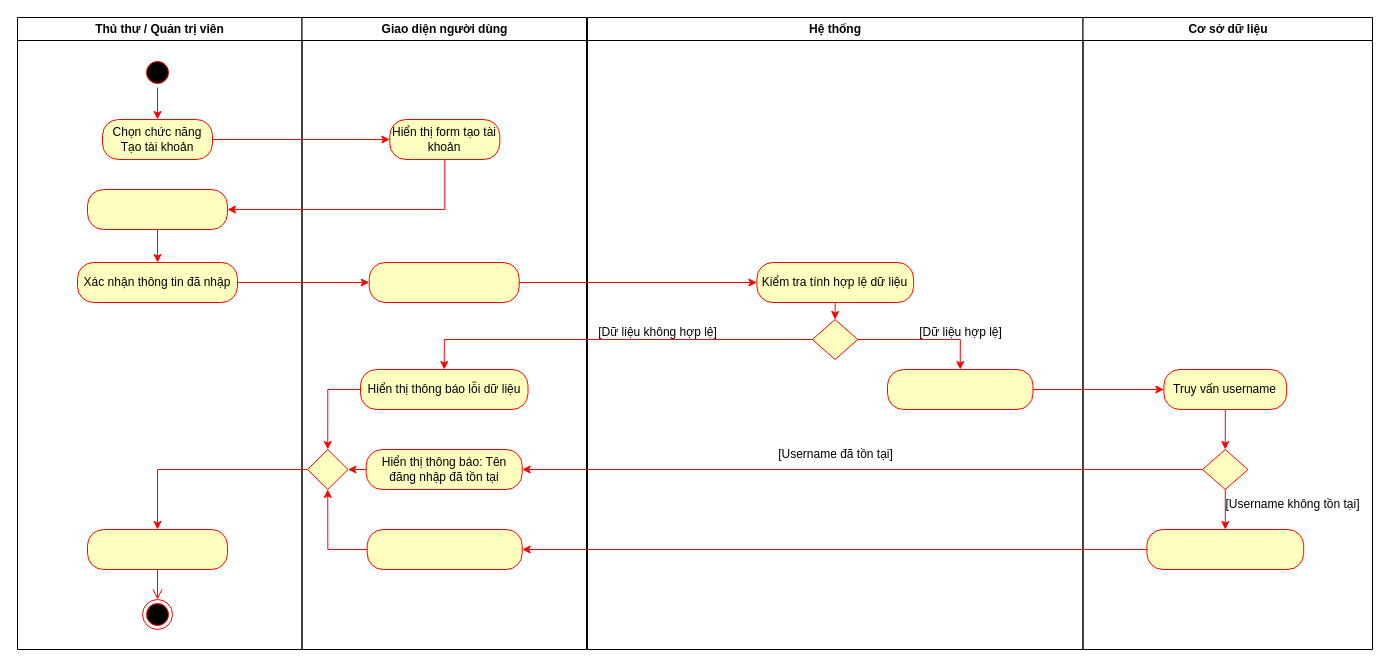
Some shapes in this 1390 by 667 pixel diagram are drawn without their labels. Each missing label, with the box of its shape:
Gửi dữ liệu đến hệ thống: (368, 262, 519, 302)
Gửi yêu cầu kiểm tra username đến database: (886, 368, 1033, 410)
Hiển thị thông báo: Tạo tài khoản thành công: (366, 528, 522, 570)
Nhận thông báo kết quả: (86, 528, 228, 570)
Nhập thông tin tài khoản: (86, 188, 228, 230)
Tạo tài khoản mới trong database: (1146, 528, 1304, 570)
